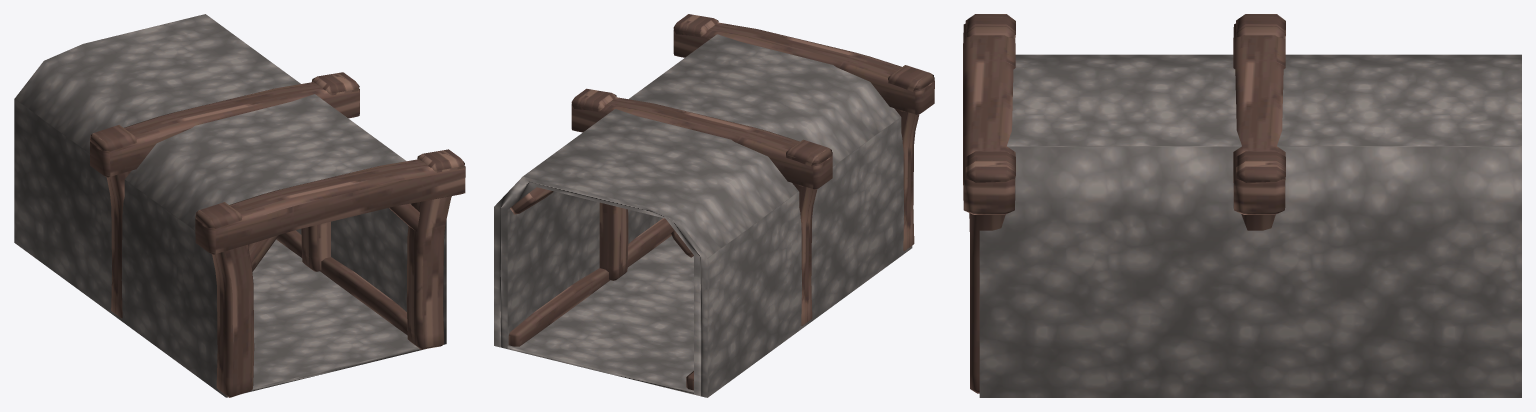
The model's file is SM_mine_module_04.glb.
3 views of the same model, side by side, from view 1: azimuth 30°, elevation 25°; view 2: azimuth 150°, elevation 25°; view 3: azimuth 270°, elevation 25° (orthographic). The views are drawn at different scales.
Visible parts, largest first — view 1: SM_mine_module_04; view 2: SM_mine_module_04; view 3: SM_mine_module_04.
Part boxes in pixels (x1,y1,x2,y2): SM_mine_module_04: (14,14,465,397); SM_mine_module_04: (494,14,934,397); SM_mine_module_04: (963,14,1521,397).
Size of the model in its own units: 7.36 by 5.15 by 10.75.
Materials: 2 (2 with a texture image).
